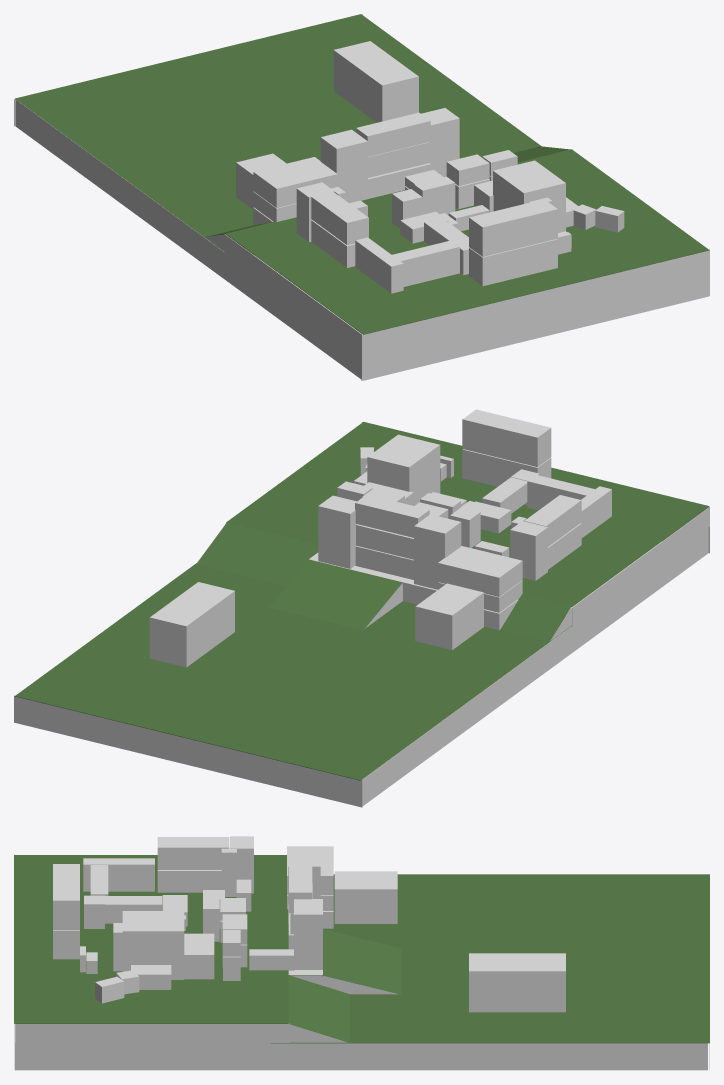
The model's file is map.glb.
The picture shows the model from 3 angles, top to bottom: view 1: azimuth 30°, elevation 25°; view 2: azimuth 150°, elevation 25°; view 3: azimuth 270°, elevation 25°; orthographic projection.
Visible parts, largest first — view 1: Ground.002, Ground.001, Ground.017, Ground.014, Hodge HSC, Mckinnon MK11 mk12 mk13 mk14 mk15, Gym GYM11 GYM03 GYM02, Ground, MckinnonBottom MK1 MK2 MK3 MK4 MK5, CPACTop C11 GR2 GR1 AR2 AR3 AR1, GRooms 14 13 02 04 03, AitkenTop 20 21 22 (+16 smaller); view 2: Ground.002, Ground.001, Ground.014, Ground.016, Ground.004, Hodge HSC, Ground.005, Mckinnon MK11 mk12 mk13 mk14 mk15, Gym GYM11 GYM03 GYM02, Hall, CPACTop C11 GR2 GR1 AR2 AR3 AR1, Ground (+16 smaller); view 3: Ground.002, Ground.001, Ground.015, Hodge HSC, Ground.018, Ground.004, Gym GYM11 GYM03 GYM02, Hall, Ground.005, PrepUpstairs P14 P13 P12 P11, ScienceBuilding SL11 SL12 SL2 SL1, PrepBlock1 M02 M03 (+27 smaller).
Part boxes in pixels (x1,y1,x2,y2): Ground.002: [15, 14, 541, 254]; Ground.001: [226, 149, 709, 334]; Ground.017: [361, 249, 709, 380]; Ground.014: [15, 99, 361, 379]; Hodge HSC: [333, 41, 418, 122]; Mckinnon MK11 mk12 mk13 mk14 mk15: [469, 199, 557, 256]; Gym GYM11 GYM03 GYM02: [493, 160, 565, 232]; Ground: [224, 234, 361, 353]; MckinnonBottom MK1 MK2 MK3 MK4 MK5: [469, 239, 557, 286]; CPACTop C11 GR2 GR1 AR2 AR3 AR1: [253, 157, 337, 207]; GRooms 14 13 02 04 03: [320, 129, 367, 203]; AitkenTop 20 21 22: [356, 112, 430, 156]; Ground.002: [15, 563, 571, 780]; Ground.001: [226, 422, 708, 606]; Ground.014: [362, 527, 708, 805]; Ground.016: [14, 695, 362, 807]; Ground.004: [269, 559, 402, 630]; Hodge HSC: [149, 582, 234, 667]; Ground.005: [196, 522, 318, 586]; Mckinnon MK11 mk12 mk13 mk14 mk15: [462, 409, 551, 466]; Gym GYM11 GYM03 GYM02: [367, 434, 440, 505]; Hall: [415, 583, 483, 649]; CPACTop C11 GR2 GR1 AR2 AR3 AR1: [438, 546, 522, 596]; Ground: [572, 507, 709, 626]; Ground.002: [271, 874, 709, 1043]; Ground.001: [14, 855, 288, 1023]; Ground.015: [15, 1043, 707, 1069]; Hodge HSC: [469, 953, 565, 1012]; Ground.018: [15, 1023, 289, 1042]; Ground.004: [323, 929, 401, 993]; Gym GYM11 GYM03 GYM02: [122, 911, 184, 979]; Hall: [334, 871, 397, 923]; Ground.005: [288, 975, 349, 1042]; PrepUpstairs P14 P13 P12 P11: [157, 837, 228, 869]; ScienceBuilding SL11 SL12 SL2 SL1: [294, 899, 322, 969]; PrepBlock1 M02 M03: [83, 858, 154, 891].
Size of the model in its own units: 183 by 57.41 by 317.
